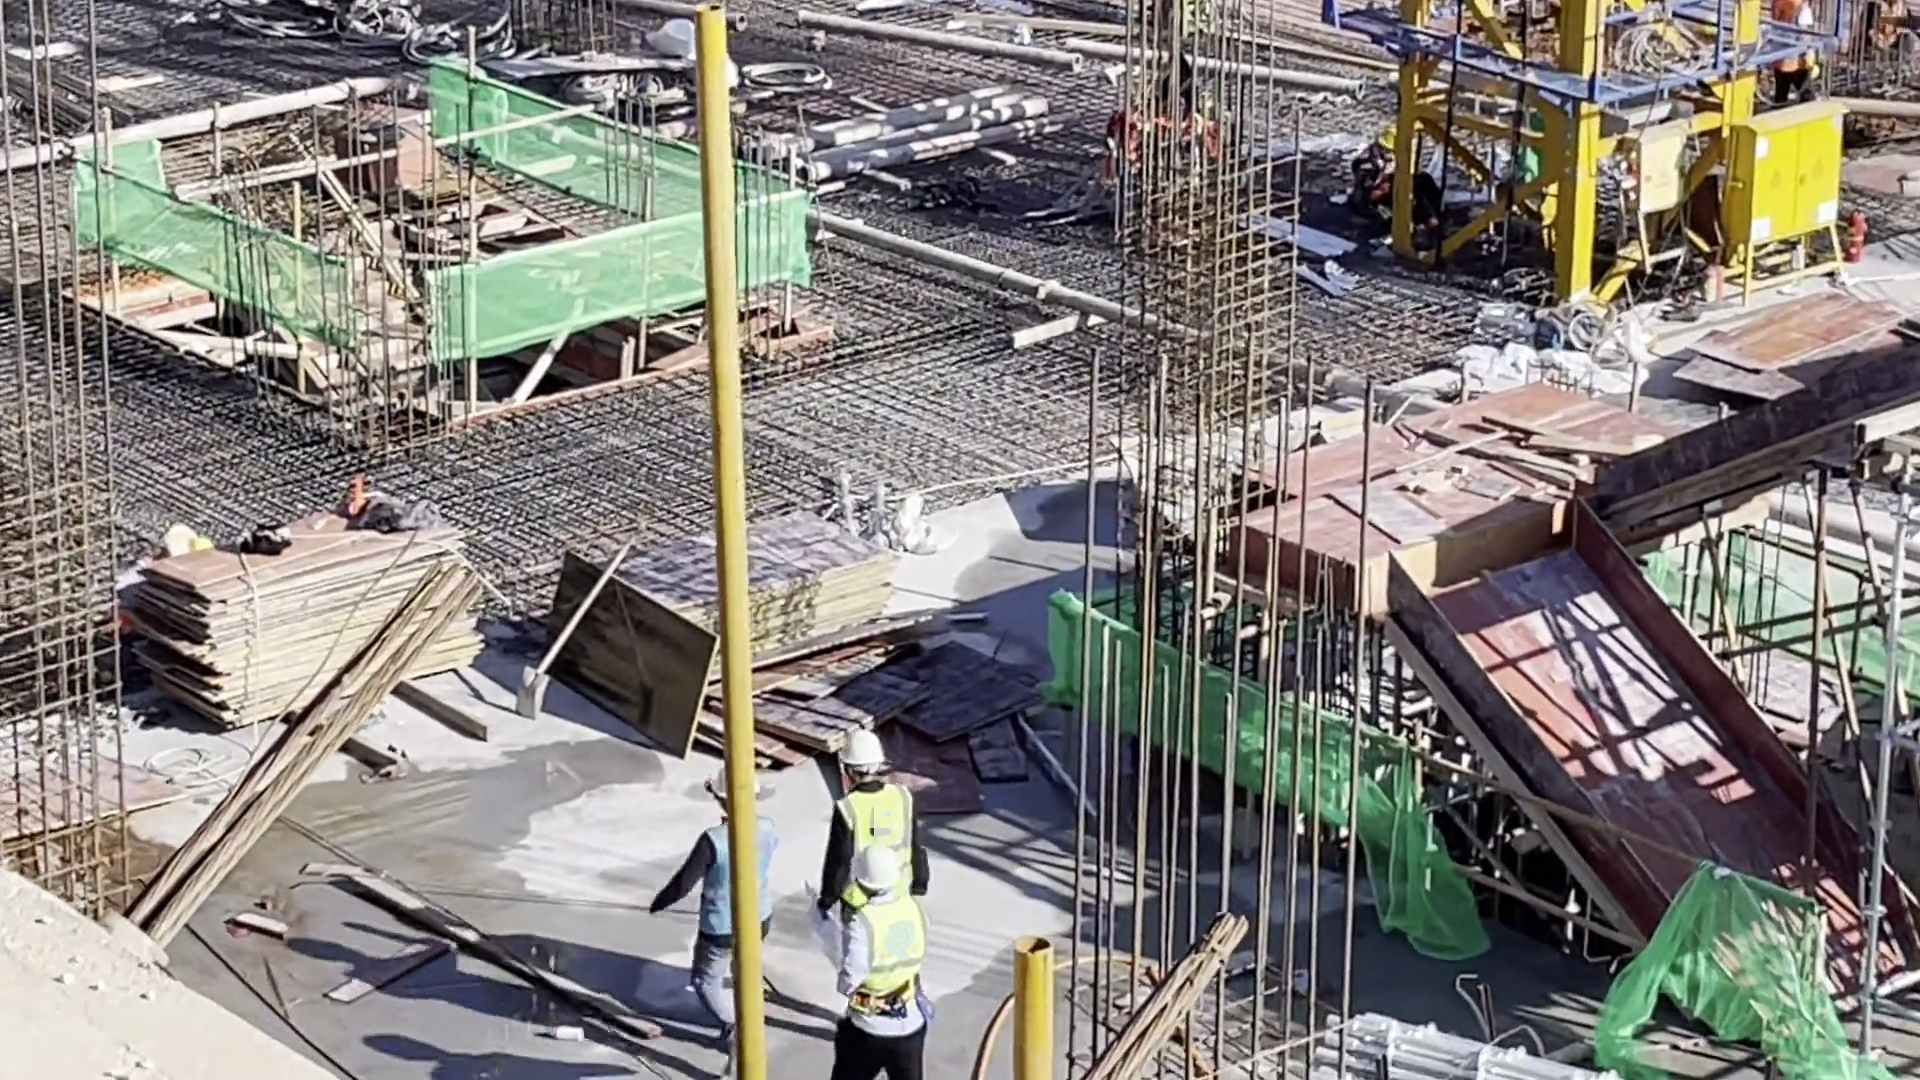board: (134, 495, 479, 731), (1291, 394, 1575, 617), (587, 511, 900, 692)
ebox: (1706, 94, 1867, 306)
helmet: (851, 845, 898, 889), (839, 730, 885, 767)
person: (649, 761, 779, 1080), (833, 845, 932, 1080), (815, 730, 918, 936)
scaffold: (1353, 1014, 1617, 1080)
vest: (848, 896, 924, 1028), (701, 818, 776, 945), (837, 781, 912, 843)
